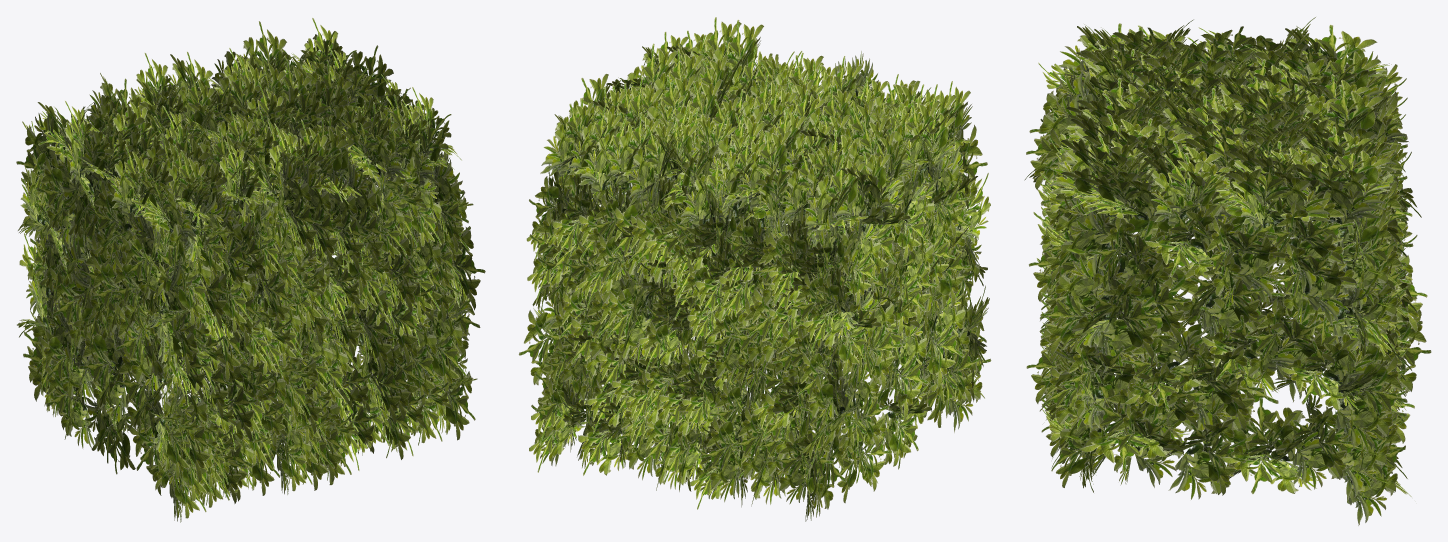
File: Bush 1.dae
3 renders of one model, left to right at view 1: azimuth 30°, elevation 25°; view 2: azimuth 150°, elevation 25°; view 3: azimuth 270°, elevation 25°, orthographic. The views are drawn at different scales.
Parts seen in each view (by area): view 1: group_2 (×80), group_1 (×51), group_3 (×18); view 2: group_2 (×110), group_1 (×34), group_3 (×9); view 3: group_2 (×63), group_1 (×54), group_3 (×22).
Part boxes in pixels (left/top/right/bottom): group_2 (×80): left=64, top=17, right=485, bottom=518; group_1 (×51): left=16, top=51, right=475, bottom=495; group_3 (×18): left=20, top=111, right=286, bottom=495; group_2 (×110): left=518, top=17, right=990, bottom=509; group_1 (×34): left=529, top=89, right=991, bottom=504; group_3 (×9): left=805, top=160, right=981, bottom=521; group_2 (×63): left=1026, top=26, right=1431, bottom=494; group_1 (×54): left=1042, top=23, right=1408, bottom=525; group_3 (×22): left=1064, top=183, right=1377, bottom=499.
Size of the model in its own units: 43.44 by 46.12 by 47.78.
Materials: 1 (1 with a texture image).
